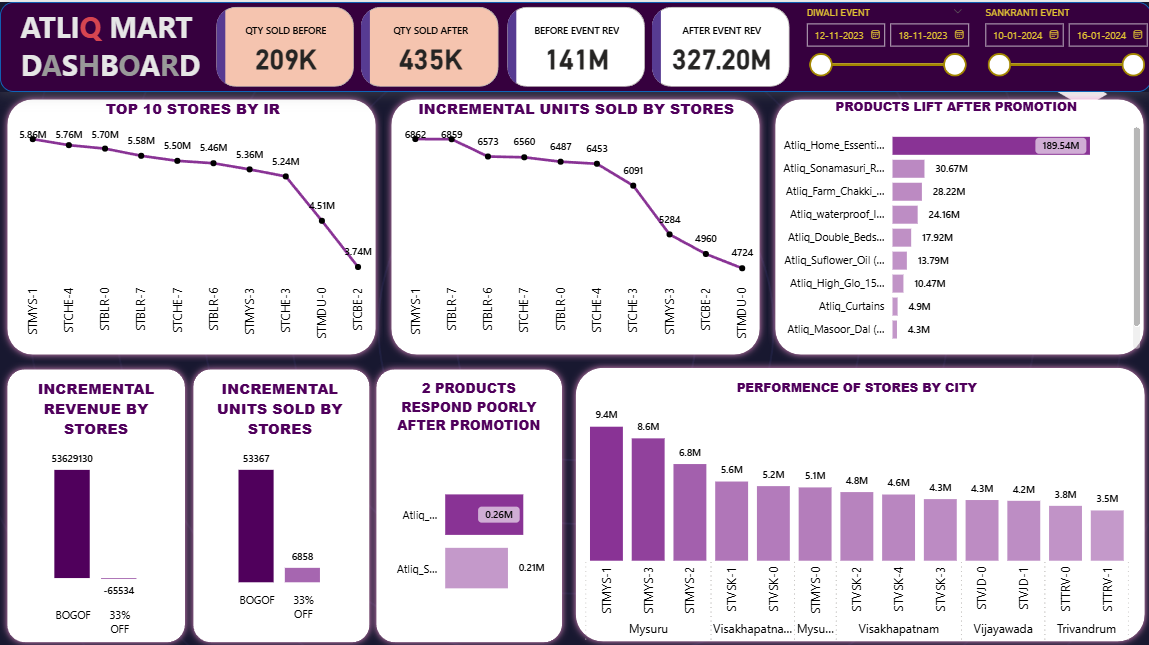

Layout of this report page (visuals, bound fields, positions):
{"tool":"powerbi","page":{"name":"Page 1","canvas":[1280,720],"ordinal":0},"visuals":[{"type":"shape","box":[0,99.9,425.5,299.8],"z":0},{"type":"shape","box":[0,0,1279.5,99.9],"z":1000},{"type":"cardVisual","fields":{"Data":["Sum(fact_events (2).Before_sale_revenue)","Sum(fact_events (2).After_sale_revenue)"]},"box":[558.7,0,324,99.9],"z":2000},{"type":"cardVisual","fields":{"Data":["Sum(fact_events (2).quantity_sold(before_promo))","Sum(fact_events (2).quantity_sold(after_promo))"]},"box":[234.7,0,324,99.9],"z":3000},{"type":"textbox","box":[1.5,0,233.2,99.9],"z":4000},{"type":"shape","box":[854,99.9,425.5,300],"z":5000},{"type":"shape","box":[427,99.9,425.5,299.8],"z":6000},{"type":"shape","box":[631.1,399,648.3,320.3],"z":7000},{"type":"shape","box":[0,399.8,213.5,319.5],"z":8000},{"type":"slicer","title":"hii","fields":{"Values":["date_for_EVENT.new DIW"]},"box":[882.8,0,198.4,99.9],"z":9000},{"type":"slicer","title":"hii","fields":{"Values":["date_for_EVENT.new SAN"]},"box":[1081.1,0,198.4,99.9],"z":10000},{"type":"lineChart","title":"TOP 10 STORES BY IR ","fields":{"Category":["fact_events (2).store_id"],"Y":["Sum(fact_events (2).IR)"]},"box":[9.6,107.4,408.6,283.9],"z":11000},{"type":"shape","box":[410.3,399.8,222.6,319.5],"z":11500},{"type":"lineChart","title":"INCREMENTAL UNITS SOLD  BY STORES","fields":{"Category":["fact_events (2).store_id"],"Y":["Sum(fact_events (2).ISU)"]},"box":[435.4,107.4,410.5,283.9],"z":12000},{"type":"columnChart","title":"PERFORMENCE OF STORES BY CITY","fields":{"Y":["Sum(fact_events (2).After_sale_revenue)"],"Category":["dim_stores.city","dim_stores.store_id"]},"box":[631.1,418.1,640.6,301.1],"z":13000},{"type":"columnChart","title":"INCREMENTAL REVENUE  BY STORES","fields":{"Y":["Sum(fact_events (2).IR)"],"Category":["fact_events (2).promo_type"]},"box":[9.1,417.9,196.8,293.8],"z":14000},{"type":"shape","box":[205.9,399.8,212,319.5],"z":15000},{"type":"columnChart","title":"INCREMENTAL UNITS SOLD  BY STORES","fields":{"Category":["fact_events (2).promo_type"],"Y":["Sum(fact_events (2).ISU)"]},"box":[213.5,417.9,195.3,277.1],"z":16000},{"type":"barChart","title":"PRODUCTS LIFT AFTER PROMOTION","fields":{"Category":["dim_products.product_name"],"Y":["Sum(fact_events (2).After_sale_revenue)"]},"box":[853.5,107.3,418.3,283.5],"z":17000},{"type":"barChart","title":"2 PRODUCTS RESPOND POORLY AFTER PROMOTION","fields":{"Category":["dim_products.product_name"],"Y":["Sum(fact_events (2).After_sale_revenue)"]},"box":[424,417.9,195.3,293.8],"z":19000}]}

Visuals, with their boxes in screenshot pixels (x1, y1, x2, y2), scaled from the page's 1280x720 canvas onto the 1149x645 screenshot:
shape: locate(0, 89, 382, 358)
shape: locate(0, 0, 1148, 89)
cardVisual - Sum(fact_events (2).Before_sale_revenue) x Sum(fact_events (2).After_sale_revenue): locate(502, 0, 792, 89)
cardVisual - Sum(fact_events (2).quantity_sold(before_promo)) x Sum(fact_events (2).quantity_sold(after_promo)): locate(211, 0, 502, 89)
textbox: locate(1, 0, 211, 89)
shape: locate(767, 89, 1148, 358)
shape: locate(383, 89, 765, 358)
shape: locate(567, 357, 1148, 644)
shape: locate(0, 358, 192, 644)
"hii" slicer: locate(792, 0, 971, 89)
"hii" slicer: locate(970, 0, 1148, 89)
"TOP 10 STORES BY IR " lineChart: locate(9, 96, 375, 351)
shape: locate(368, 358, 568, 644)
"INCREMENTAL UNITS SOLD  BY STORES" lineChart: locate(391, 96, 759, 351)
"PERFORMENCE OF STORES BY CITY" columnChart: locate(567, 375, 1142, 644)
"INCREMENTAL REVENUE  BY STORES" columnChart: locate(8, 374, 185, 638)
shape: locate(185, 358, 375, 644)
"INCREMENTAL UNITS SOLD  BY STORES" columnChart: locate(192, 374, 367, 623)
"PRODUCTS LIFT AFTER PROMOTION" barChart: locate(766, 96, 1142, 350)
"2 PRODUCTS RESPOND POORLY AFTER PROMOTION" barChart: locate(381, 374, 556, 638)
